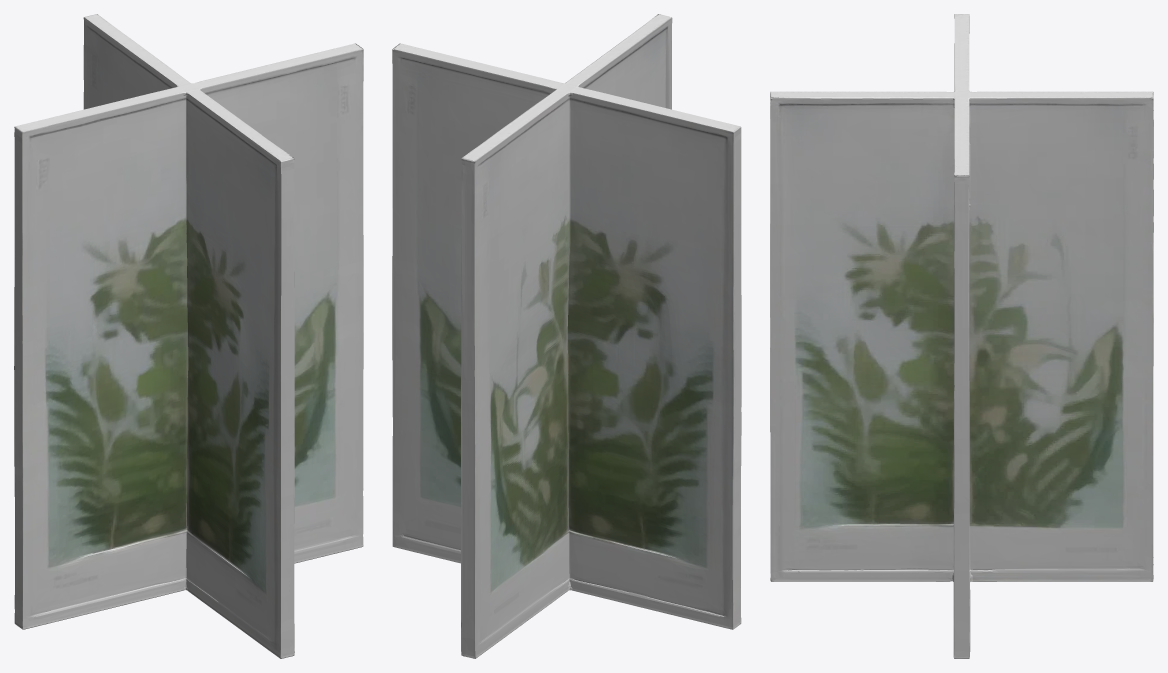
The model's file is 39c688d0-116d-48d5-8249-b0c141dbf52e.glb.
3 views of the same model, side by side, from view 1: azimuth 30°, elevation 25°; view 2: azimuth 150°, elevation 25°; view 3: azimuth 270°, elevation 25° (orthographic). The views are drawn at different scales.
Parts seen in each view (by area): view 1: world; view 2: world; view 3: world.
Part boxes in pixels (x1,y1,x2,y2): world: (14, 14, 363, 658); world: (392, 14, 741, 658); world: (770, 14, 1153, 658).
Size of the model in its own units: 0.7187 by 1 by 0.7197.
1 material, 1 textured.
